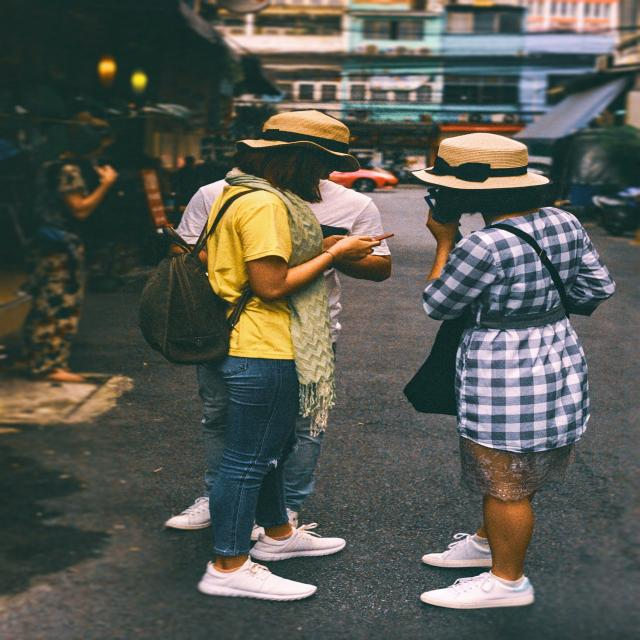adult: (394, 131, 605, 610), (190, 110, 381, 612), (7, 115, 121, 382)
